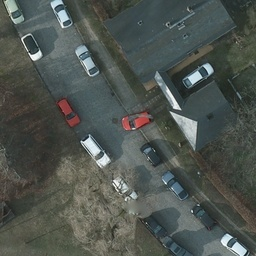car: (159, 168, 193, 202), (182, 61, 214, 88), (83, 137, 110, 167), (55, 96, 80, 128), (109, 175, 136, 203), (189, 202, 214, 230), (141, 213, 167, 239), (76, 44, 96, 77), (21, 34, 45, 61), (50, 1, 71, 30), (121, 111, 151, 130), (220, 234, 247, 255), (140, 141, 161, 165), (3, 1, 24, 24)
